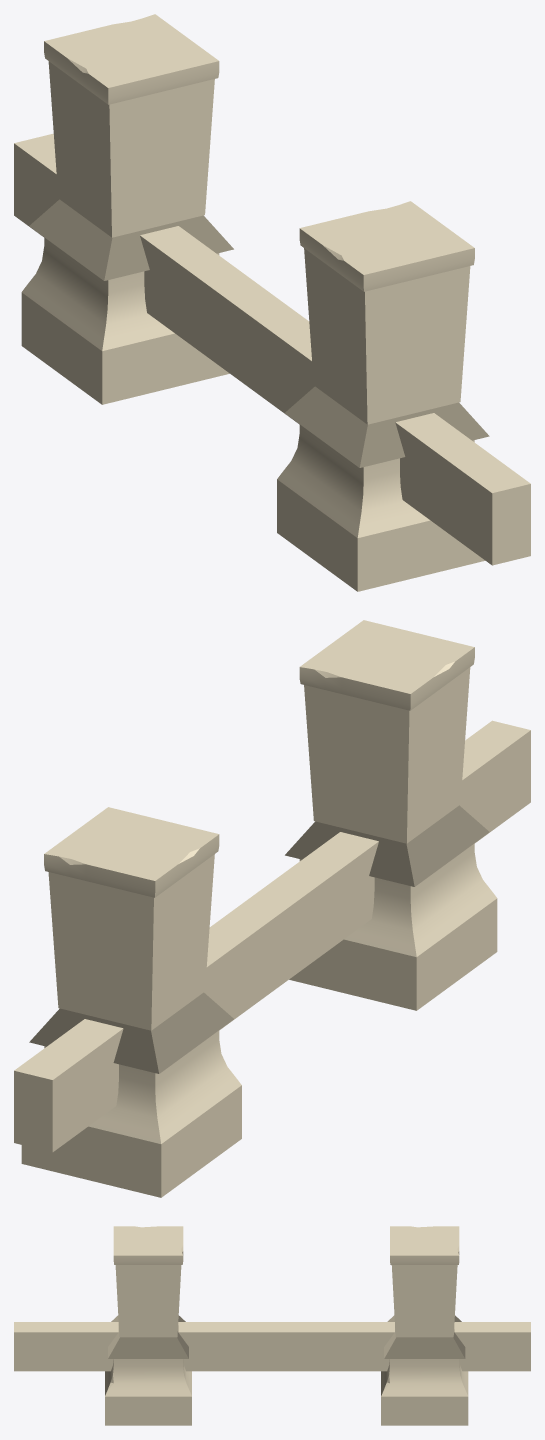
File: Baranda Doble FBX.fbx
3 renders of one model, top to bottom at view 1: azimuth 30°, elevation 25°; view 2: azimuth 150°, elevation 25°; view 3: azimuth 270°, elevation 25°, orthographic. The views are drawn at different scales.
Visible parts, largest first — view 1: Baranda_Simple_Doble; view 2: Baranda_Simple_Doble; view 3: Baranda_Simple_Doble.
Boxes of the visible parts, x1,y1,x2,y2 form: Baranda_Simple_Doble: (14,14,530,591); Baranda_Simple_Doble: (14,620,530,1197); Baranda_Simple_Doble: (14,1226,530,1425).
Size of the model in its own units: 0.6747 by 1.42 by 4.
